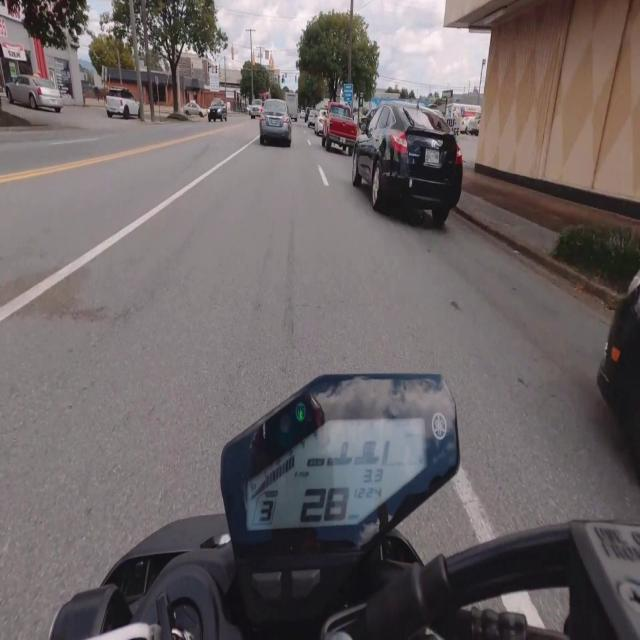car: (352, 102, 462, 226), (598, 272, 639, 479), (6, 75, 62, 112), (323, 102, 358, 155), (260, 99, 291, 146), (106, 88, 139, 119), (208, 99, 227, 122), (184, 101, 206, 117), (315, 110, 326, 135), (250, 99, 262, 119), (308, 110, 316, 127), (305, 108, 311, 122)
motorcycle: (50, 375, 639, 639)
